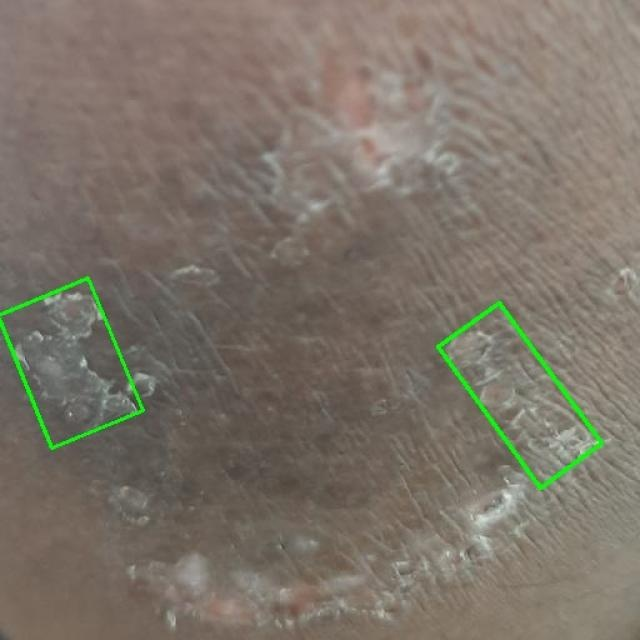Tinea Corporis: (439, 303, 601, 488), (0, 278, 143, 448)
